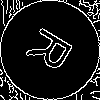R: (25, 25, 83, 79)
